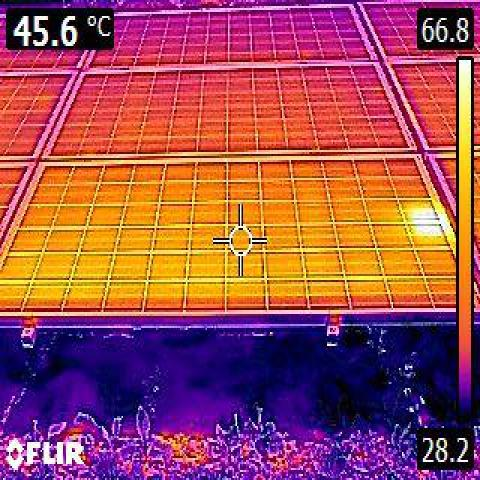fault: (414, 209, 441, 240)
